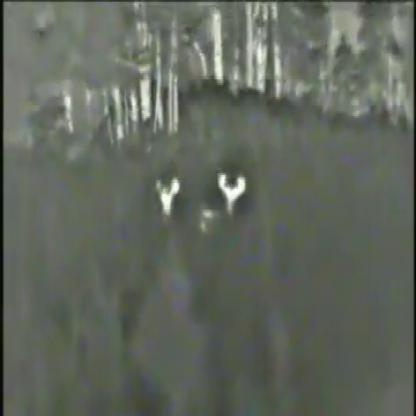rehkitze: (215, 170, 245, 220), (155, 174, 181, 222)
